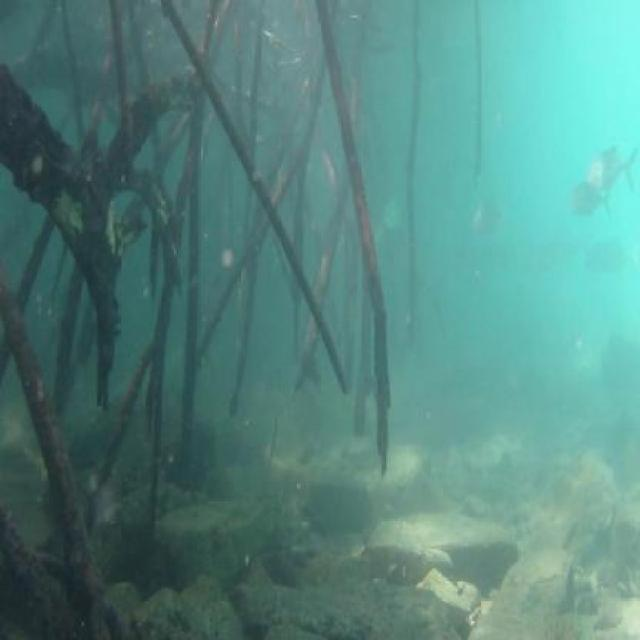Caranx_sexfasciatus_juvenile: (534, 230, 598, 282), (571, 169, 618, 225), (471, 178, 512, 239), (602, 229, 640, 286), (591, 139, 640, 183)
